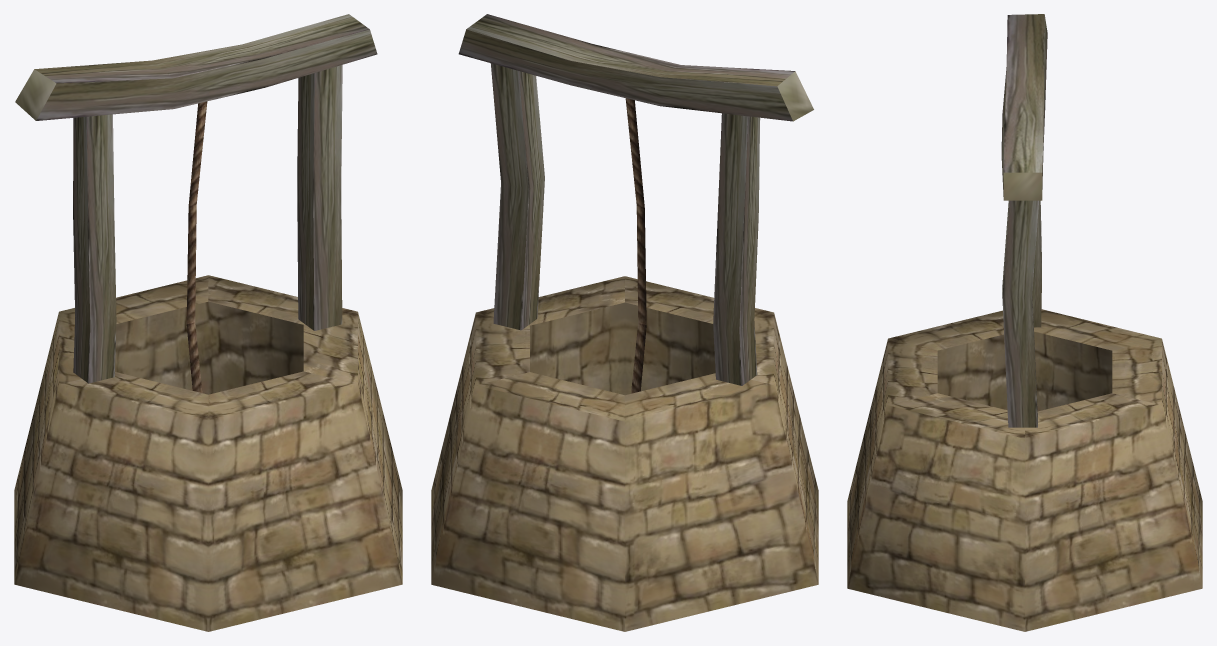
File: wellA.fbx
The picture shows the model from 3 angles, left to right: view 1: azimuth 30°, elevation 25°; view 2: azimuth 150°, elevation 25°; view 3: azimuth 270°, elevation 25°; orthographic projection. The views are drawn at different scales.
Visible parts, largest first — view 1: well_outside2_DUP, well_support, well_outside3, well_inside, rope; view 2: well_outside2_DUP, well_support, well_outside3, well_inside, rope; view 3: well_outside2_DUP, well_support, well_outside3, well_inside.
Part boxes in pixels (x1,y1,x2,y2): well_outside2_DUP: [14, 312, 402, 631]; well_support: [15, 14, 377, 383]; well_outside3: [59, 275, 357, 420]; well_inside: [115, 301, 303, 394]; rope: [186, 101, 207, 392]; well_outside2_DUP: [431, 313, 818, 631]; well_support: [458, 14, 813, 385]; well_outside3: [476, 276, 773, 421]; well_inside: [530, 302, 715, 395]; rope: [625, 98, 646, 393]; well_outside2_DUP: [847, 339, 1202, 631]; well_support: [1001, 14, 1047, 427]; well_outside3: [888, 309, 1161, 438]; well_inside: [937, 331, 1112, 411].
Bounding box in the file's own units: 855 × 1106 × 741.
1 material, 1 textured.
